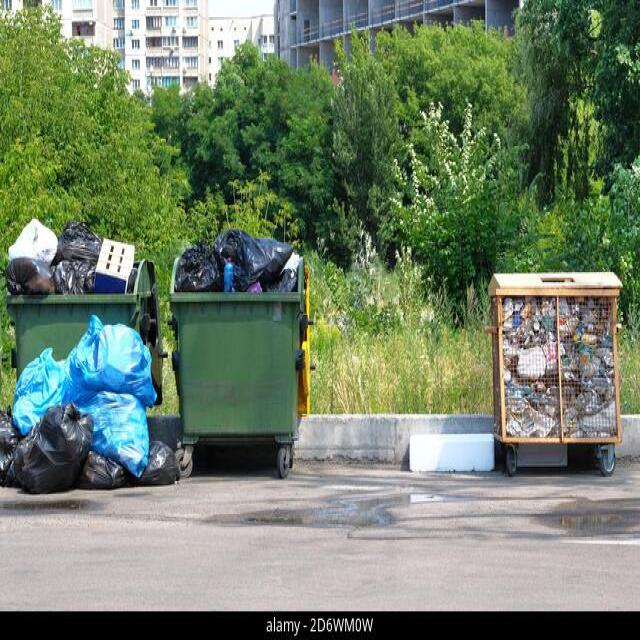trash: (1, 329, 175, 507), (505, 301, 621, 448), (10, 218, 140, 299), (175, 220, 303, 294)
